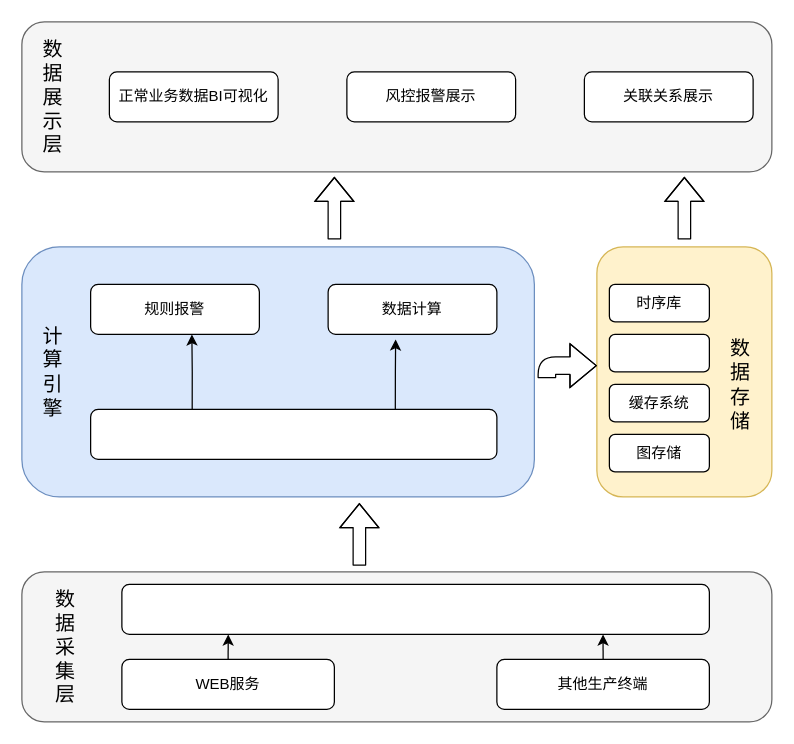
Some shapes in this 794 by 744 pixel diagram are drawn without their labels. The box of each missing label's shape, as (x1, y1, x2, y2) in pixels:
数据处理ETL: (89, 408, 497, 459)
文件系统: (608, 333, 709, 372)
消息通道: (121, 583, 709, 634)
